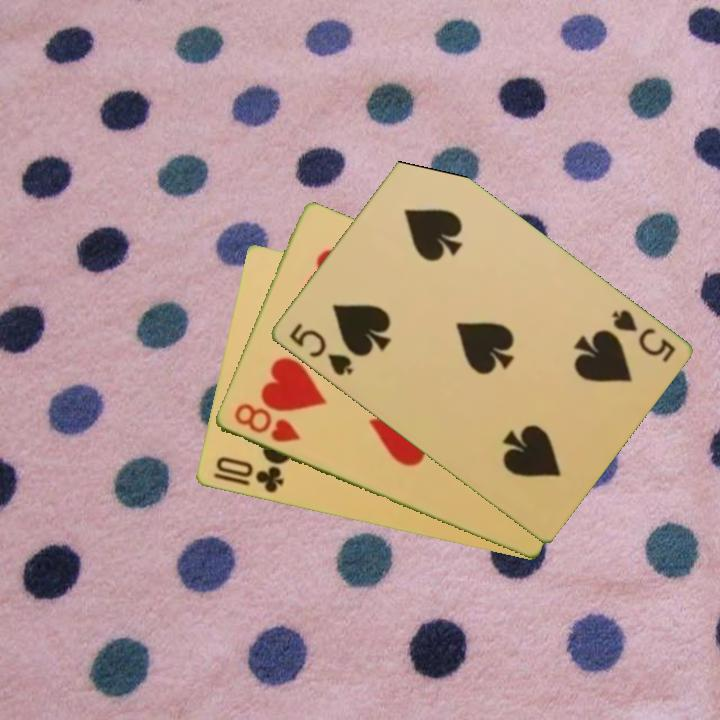10c: (209, 453, 287, 496)
5s: (607, 305, 678, 366), (285, 319, 356, 379)
8h: (229, 400, 303, 446)
